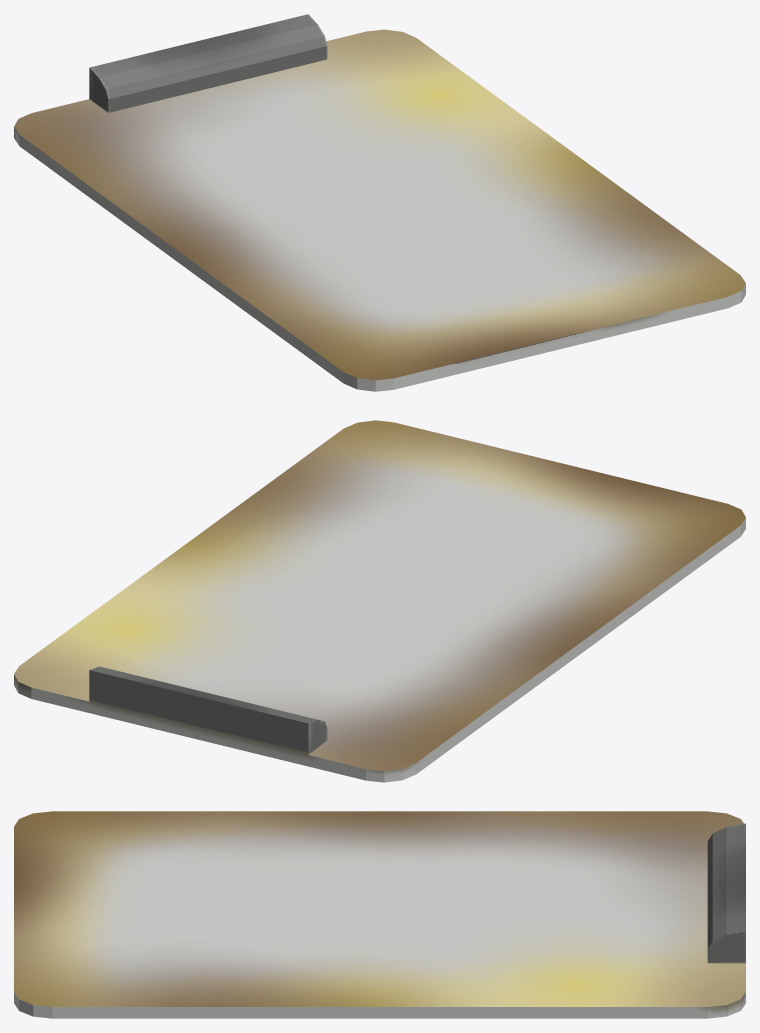
File: ClipBoard-1.fbx
3 renders of one model, top to bottom at view 1: azimuth 30°, elevation 25°; view 2: azimuth 150°, elevation 25°; view 3: azimuth 270°, elevation 25°, orthographic.
Visible parts, largest first — view 1: Cube.006; view 2: Cube.006; view 3: Cube.006.
Boxes of the visible parts, x1=… form: Cube.006: x1=14, y1=14, x2=745, y2=391; Cube.006: x1=14, y1=420, x2=745, y2=782; Cube.006: x1=14, y1=811, x2=745, y2=1018.
Bounding box in the file's own units: 242 × 25.01 × 382.
1 material, 1 textured.
